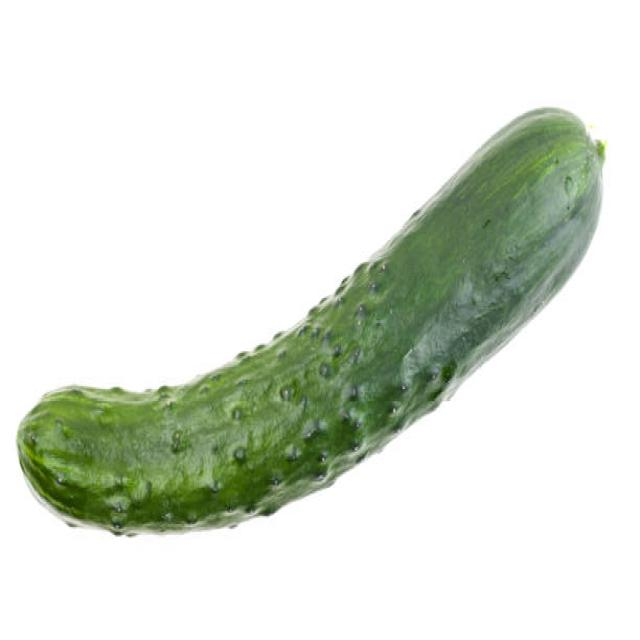cucumber: (17, 105, 601, 534)
